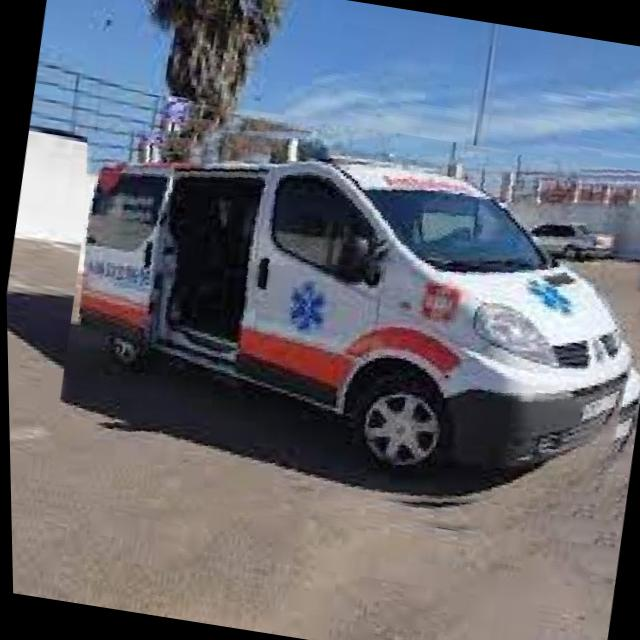ambulance: (39, 86, 640, 574)
